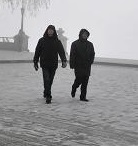person: (32, 24, 67, 105), (68, 26, 96, 103)
